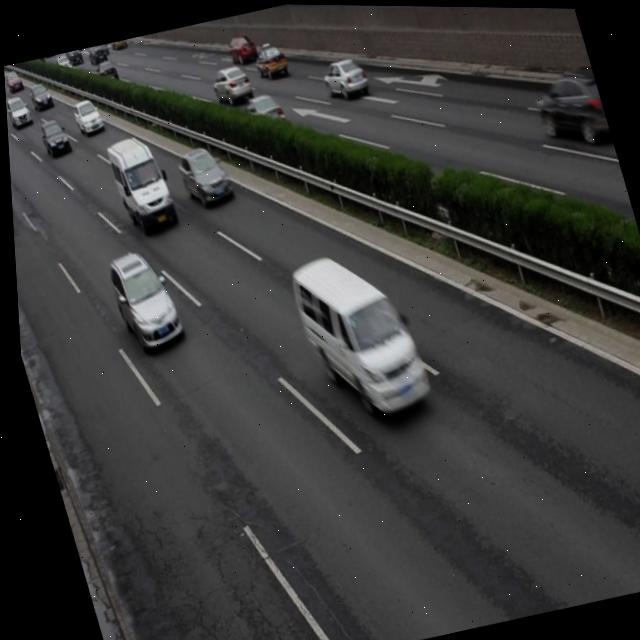car: (98, 243, 182, 355), (525, 60, 612, 155), (172, 141, 233, 212), (317, 53, 370, 102), (234, 88, 286, 136), (207, 61, 253, 107), (35, 115, 72, 161), (249, 41, 289, 81), (223, 30, 260, 69), (70, 96, 104, 137)
truck: (280, 238, 433, 430), (101, 131, 177, 236)
